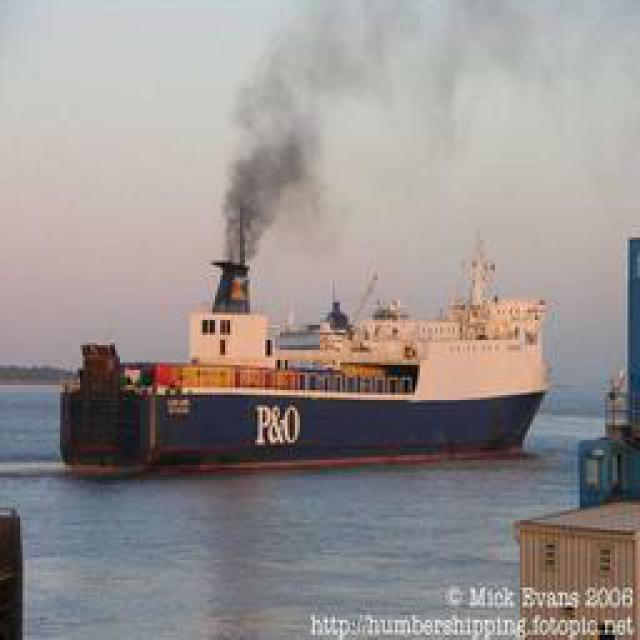Ship: (64, 269, 549, 469)
